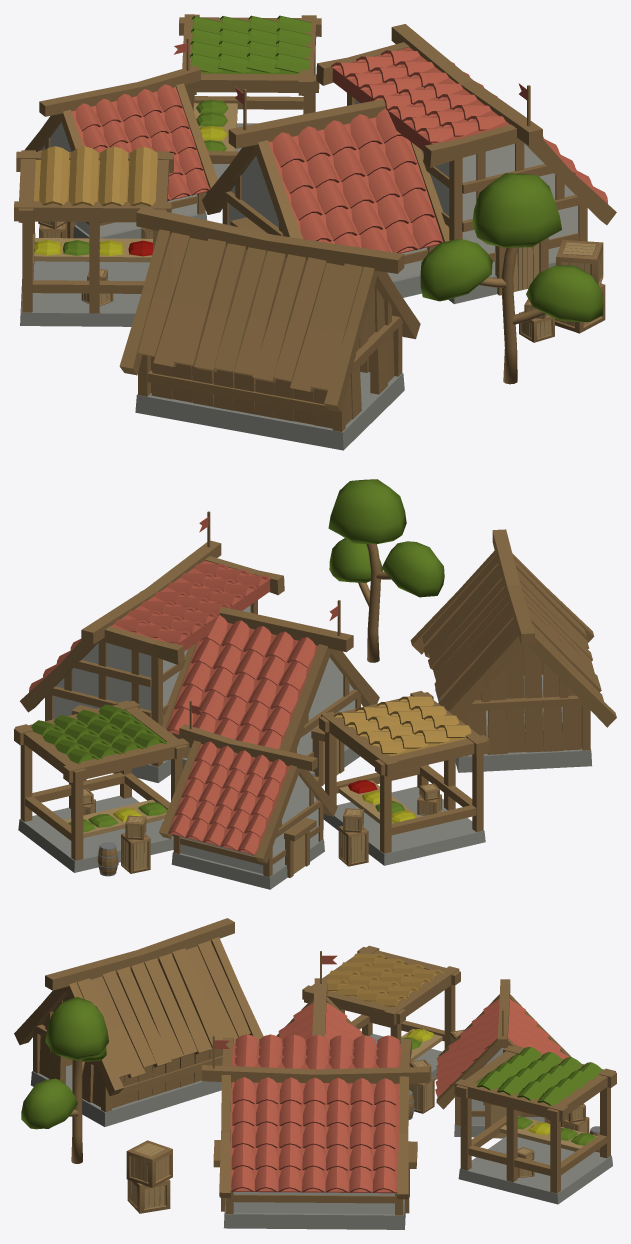
Rendered from _house.glb.
The picture shows the model from 3 angles, top to bottom: view 1: azimuth 30°, elevation 25°; view 2: azimuth 150°, elevation 25°; view 3: azimuth 270°, elevation 25°; orthographic projection. The views are drawn at different scales.
Visible parts, largest first — view 1: Houses_SecondAge_2_Level3, Houses_FirstAge_1_Level3, Market_SecondAge_Level1, Resource_Tree1, Crate_Big_Stack2, Crate_Stack1; view 2: Houses_SecondAge_2_Level3, Market_SecondAge_Level1, Houses_FirstAge_1_Level3, Resource_Tree1; view 3: Houses_SecondAge_2_Level3, Market_SecondAge_Level1, Houses_FirstAge_1_Level3, Resource_Tree1, Crate_Big_Stack2.
Boxes of the visible parts, <box> form: Houses_SecondAge_2_Level3: <box>24,24,616,304</box>; Houses_FirstAge_1_Level3: <box>119,206,420,450</box>; Market_SecondAge_Level1: <box>14,14,321,326</box>; Resource_Tree1: <box>420,173,603,384</box>; Crate_Big_Stack2: <box>555,239,605,333</box>; Crate_Stack1: <box>519,299,554,342</box>; Houses_SecondAge_2_Level3: <box>20,511,379,889</box>; Market_SecondAge_Level1: <box>14,691,489,876</box>; Houses_FirstAge_1_Level3: <box>410,529,616,772</box>; Resource_Tree1: <box>328,479,444,662</box>; Houses_SecondAge_2_Level3: <box>202,951,571,1229</box>; Market_SecondAge_Level1: <box>302,945,616,1204</box>; Houses_FirstAge_1_Level3: <box>14,918,263,1126</box>; Resource_Tree1: <box>21,997,108,1163</box>; Crate_Big_Stack2: <box>126,1140,172,1213</box>.
Bounding box in the file's own units: 2.55 × 0.9536 × 3.11.
